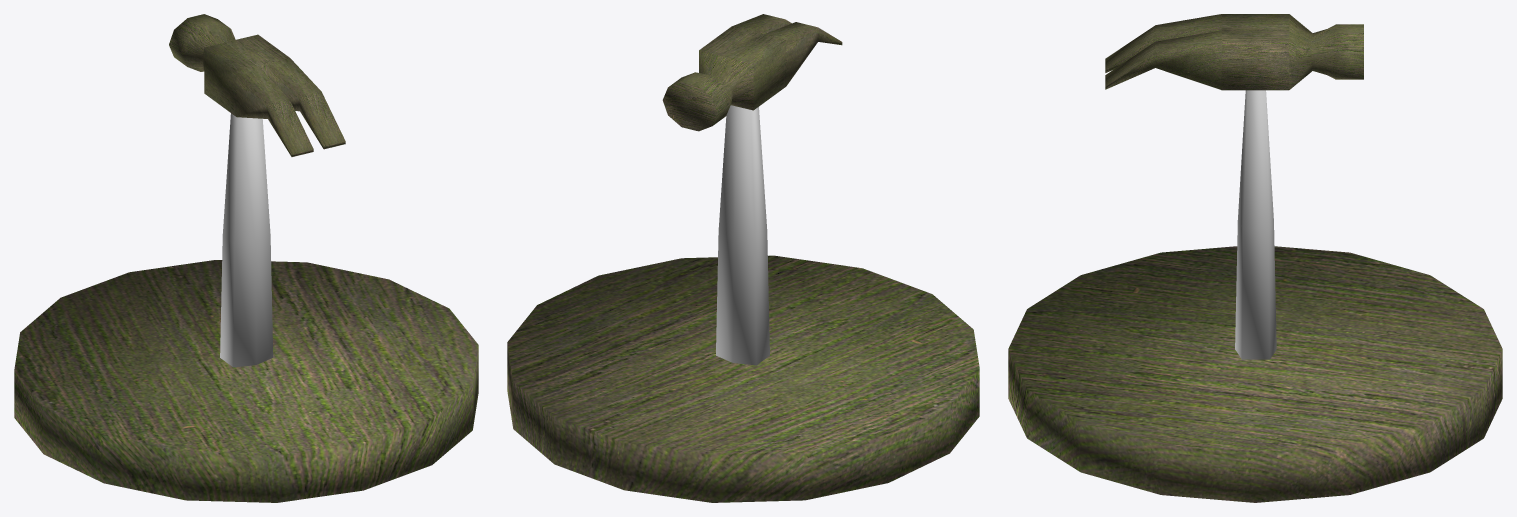
The model's file is martillo.fbx.
The picture shows the model from 3 angles, left to right: view 1: azimuth 30°, elevation 25°; view 2: azimuth 150°, elevation 25°; view 3: azimuth 270°, elevation 25°; orthographic projection. The views are drawn at different scales.
Parts seen in each view (by area): view 1: Martillo; view 2: Martillo; view 3: Martillo.
Boxes of the visible parts, box(x1,y1,x2,y2) form: Martillo: box(14, 14, 478, 502); Martillo: box(507, 14, 979, 502); Martillo: box(1008, 14, 1502, 502).
Bounding box in the file's own units: 17.77 × 14.71 × 17.77.
